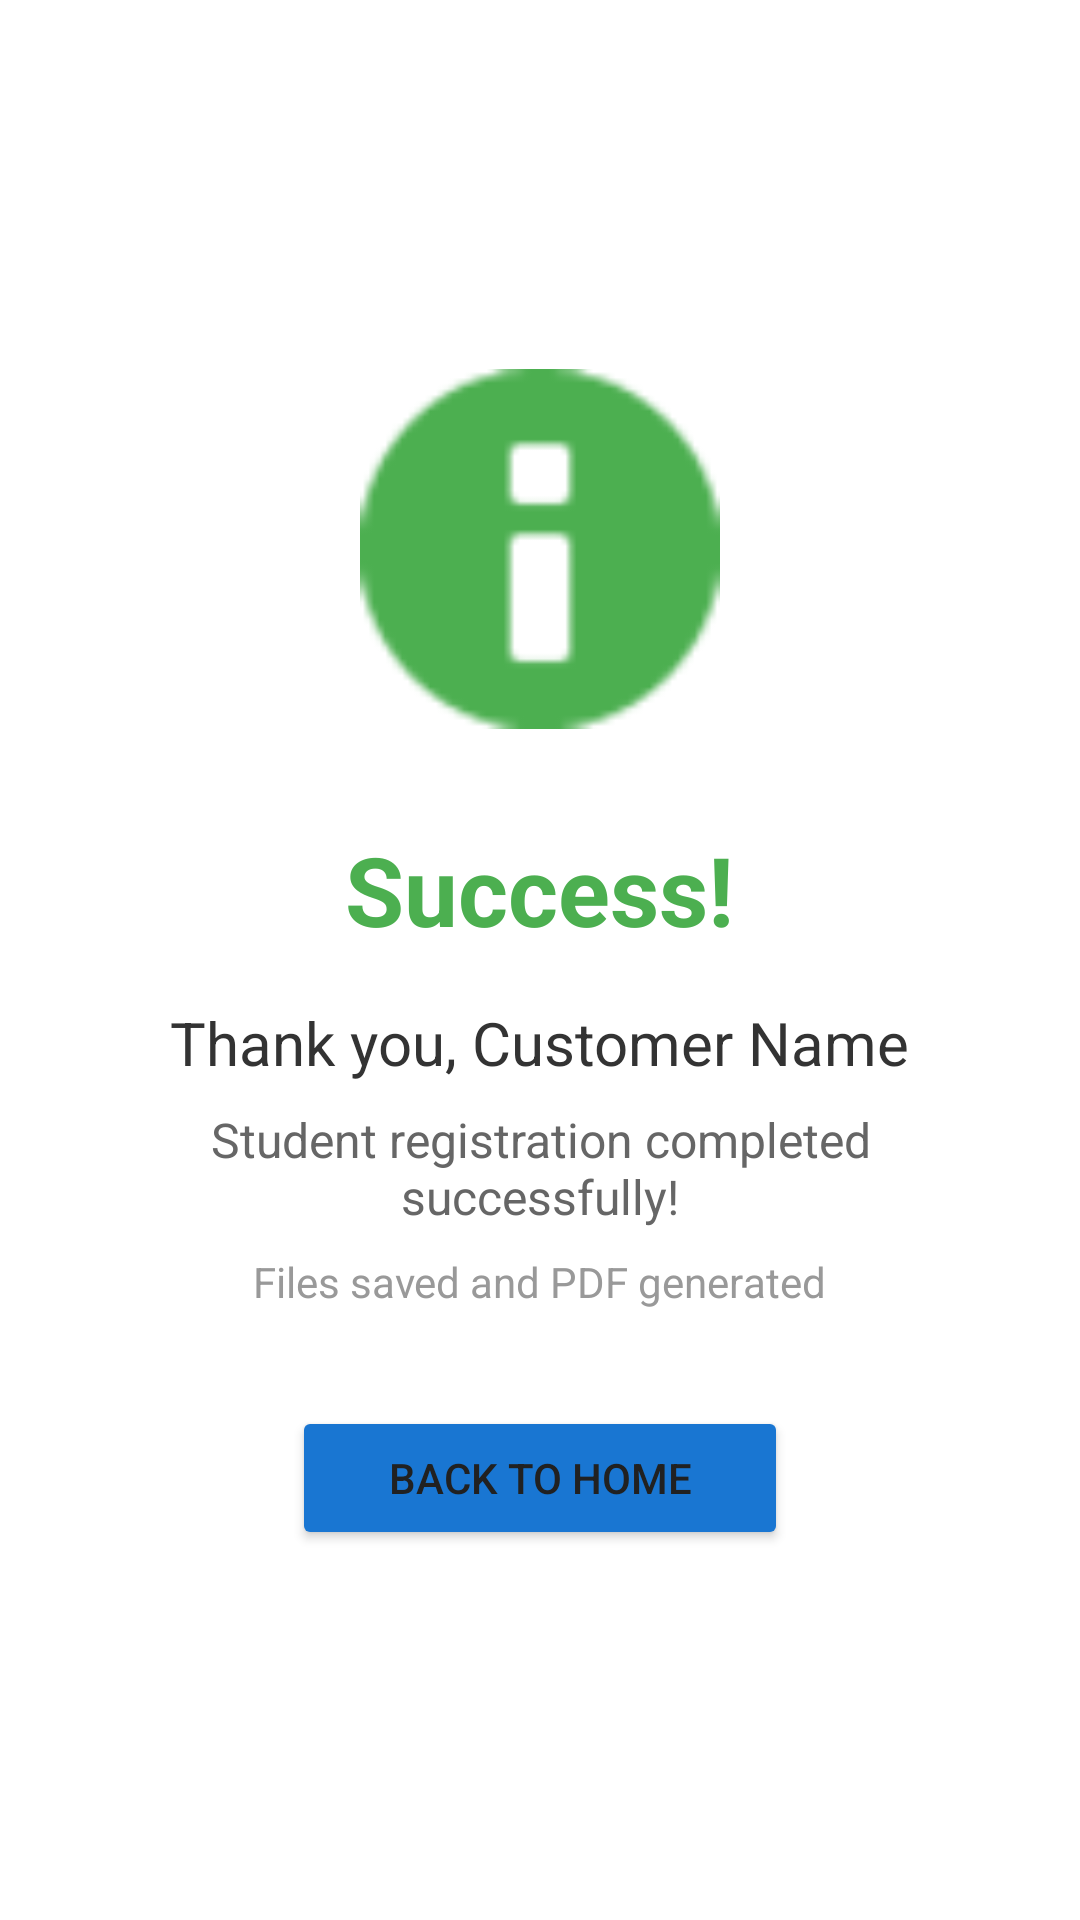

Icon bounding boxes for this 1080px×1920px phone screenshot, format detection(x1, y1, x2, y2):
info: detection(360, 369, 720, 729)
